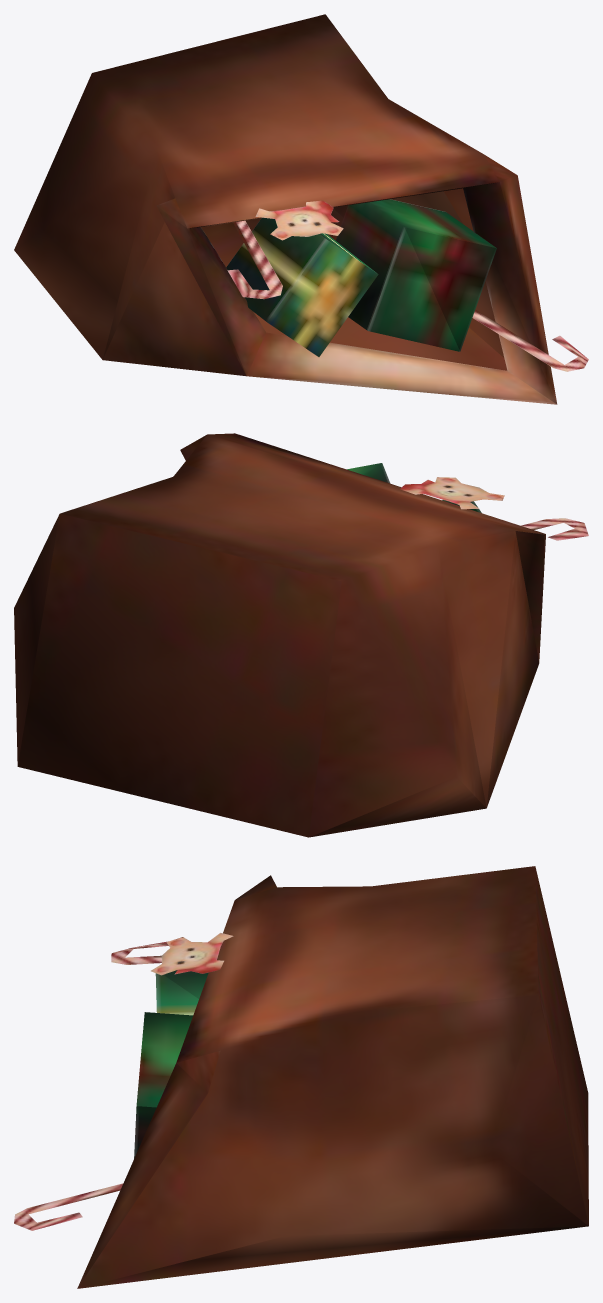
Rendered from tt_m_chr_avt_acc_pac_backpackWithToys.glb.
3 views of the same model, one above another, from view 1: azimuth 30°, elevation 25°; view 2: azimuth 150°, elevation 25°; view 3: azimuth 270°, elevation 25° (orthographic). The views are drawn at different scales.
Parts seen in each view (by area): view 1: tt_m_chr_avt_acc_pac_backpackWithToys; view 2: tt_m_chr_avt_acc_pac_backpackWithToys; view 3: tt_m_chr_avt_acc_pac_backpackWithToys.
Boxes of the visible parts, box(x1,y1,x2,y2) form: tt_m_chr_avt_acc_pac_backpackWithToys: box(14, 14, 588, 404); tt_m_chr_avt_acc_pac_backpackWithToys: box(14, 433, 588, 837); tt_m_chr_avt_acc_pac_backpackWithToys: box(14, 866, 588, 1288).
Size of the model in its own units: 6.14 by 3.81 by 7.11.
Materials: 1 (1 with a texture image).
